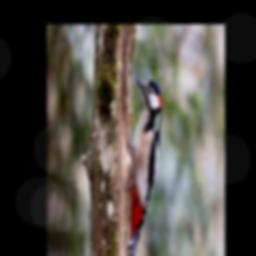Woodpecker: (126, 75, 162, 256)
